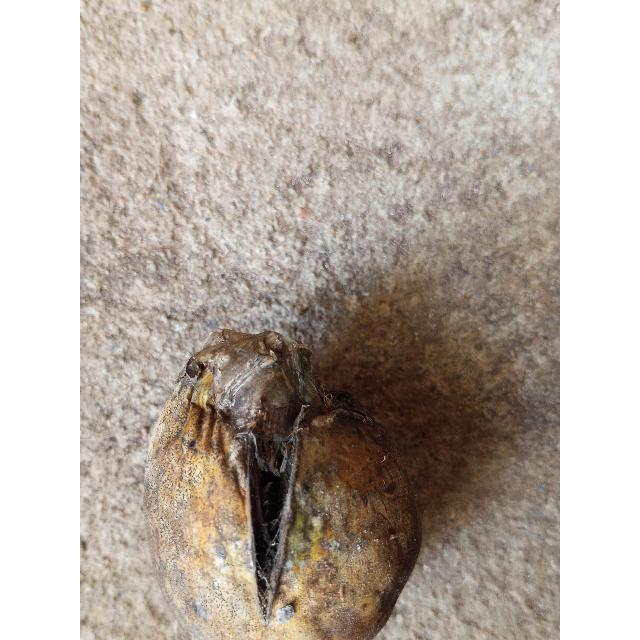damaged: (144, 329, 421, 640)
